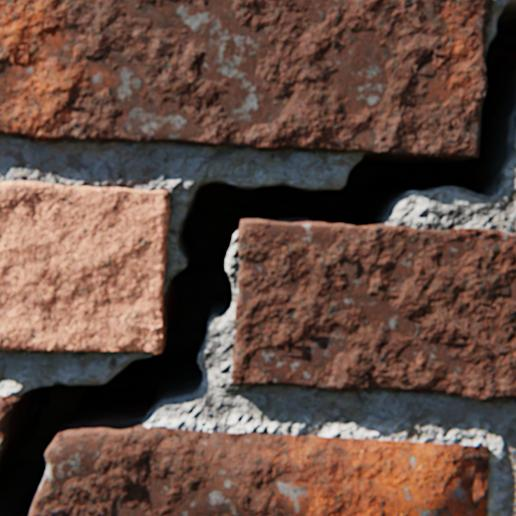brick: (0, 0, 489, 157), (232, 220, 515, 400), (0, 181, 169, 352)
broken_brick: (30, 424, 487, 515), (0, 395, 22, 461)
crack: (0, 0, 515, 515)
